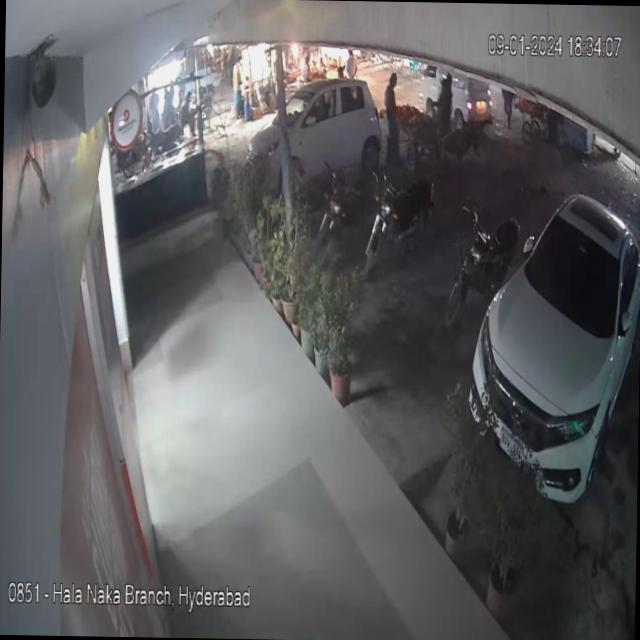Car: (466, 174, 640, 522), (246, 78, 400, 200)
Motorcycle: (366, 160, 438, 286), (442, 200, 504, 327), (318, 168, 375, 268)
